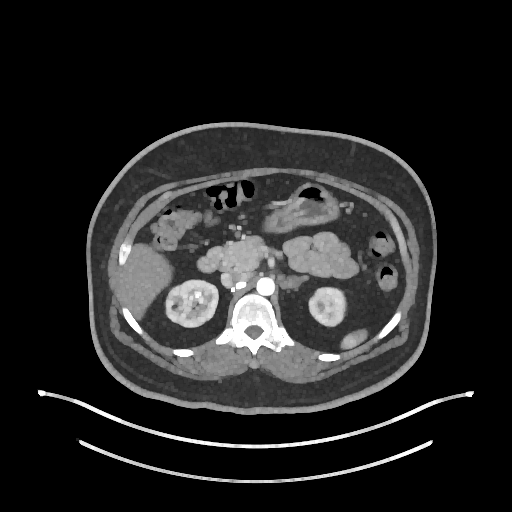Lesion: (169, 303, 184, 315)
